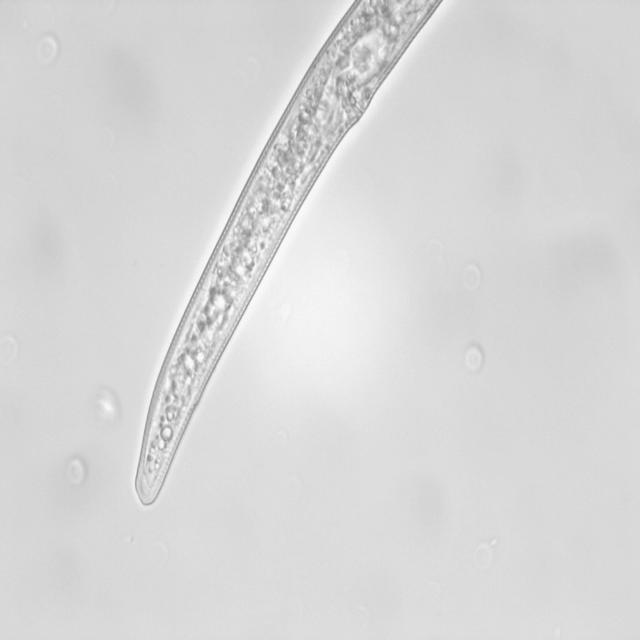Pratylenchus: (125, 0, 464, 516)
